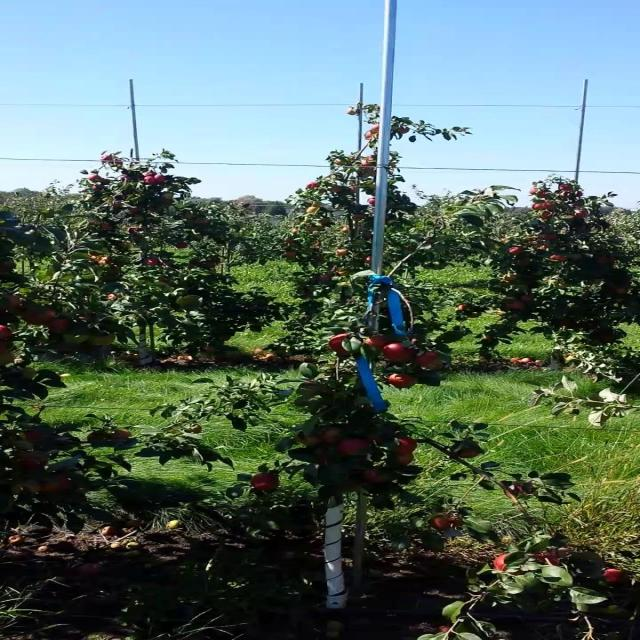apple: (20, 308, 57, 325), (383, 344, 416, 363), (497, 556, 528, 576), (20, 452, 50, 470), (419, 352, 446, 370), (532, 552, 562, 568), (433, 516, 462, 532), (42, 476, 71, 492), (340, 440, 370, 455), (13, 480, 43, 495), (362, 336, 393, 349), (255, 476, 279, 492), (604, 568, 628, 584), (319, 428, 343, 444), (390, 376, 420, 388), (362, 468, 384, 484), (397, 440, 420, 455), (511, 484, 537, 497), (397, 440, 420, 453), (20, 480, 43, 493), (49, 320, 71, 333), (298, 436, 324, 447), (333, 336, 348, 355), (461, 448, 484, 460), (312, 452, 331, 464), (6, 296, 21, 311), (92, 336, 114, 346), (28, 432, 44, 444), (63, 336, 87, 344), (113, 432, 133, 440), (397, 456, 414, 465), (92, 432, 105, 442), (1, 328, 14, 338), (348, 484, 363, 492), (596, 336, 613, 343), (28, 368, 37, 379), (6, 356, 18, 364), (371, 436, 384, 443), (191, 428, 204, 434)
